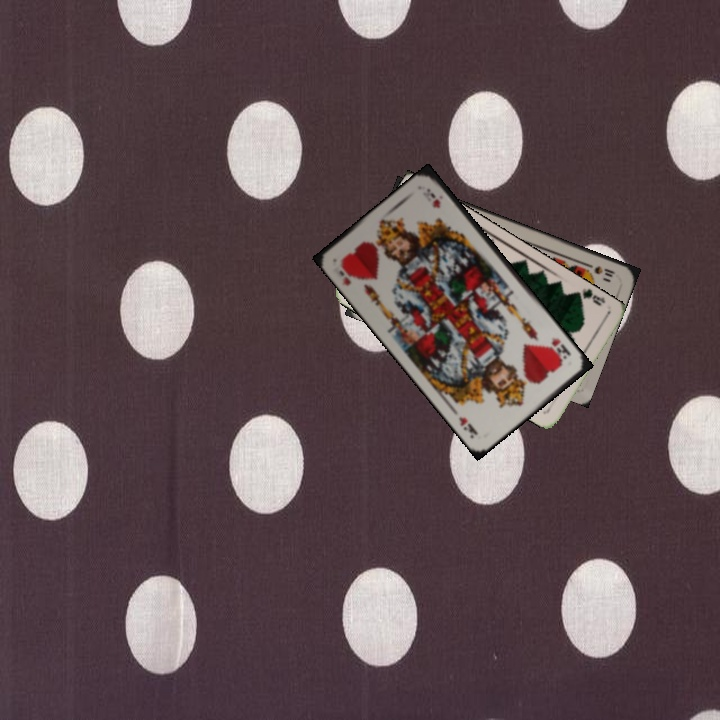G9: (572, 284, 608, 308)
HK: (547, 333, 573, 363), (335, 256, 358, 288)
S10: (581, 259, 618, 280)
